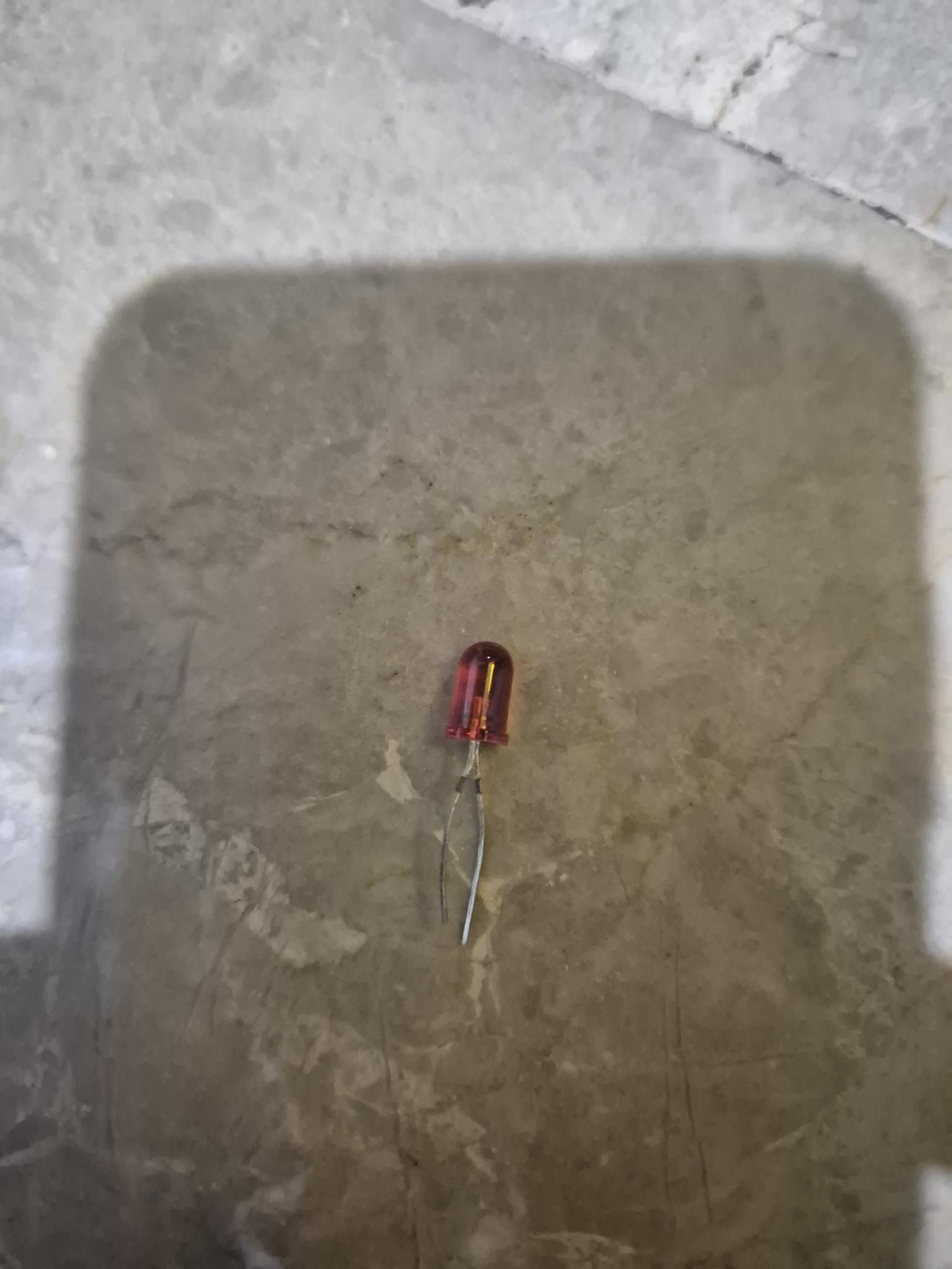led-diode: (427, 640, 522, 948)
